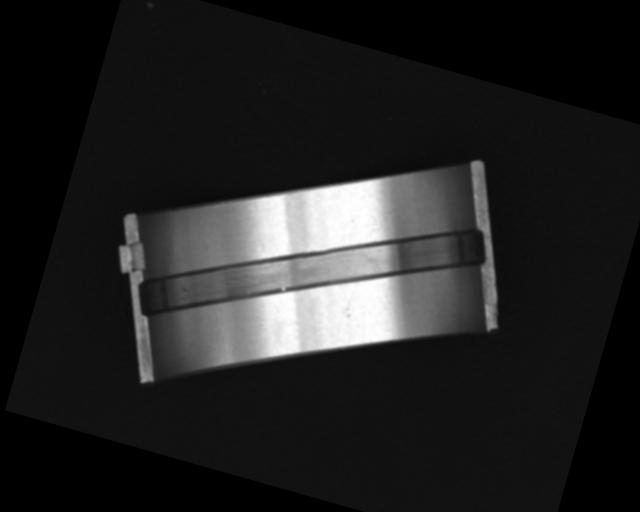gap: (132, 143, 493, 398)
